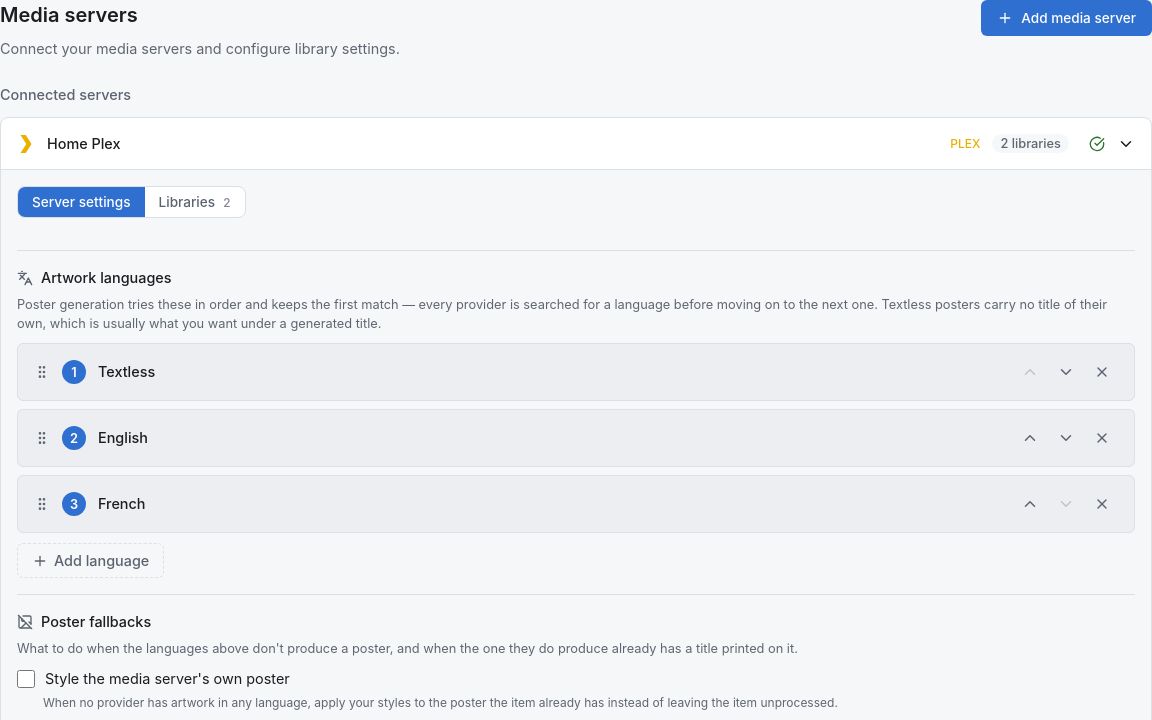
MediaServersSettings deletion › closes the confirmation and refreshes once the delete lands
Click the button "Server settings" at (81, 202), box x1=18 y1=187 x2=144 y2=217
(page scrolled)
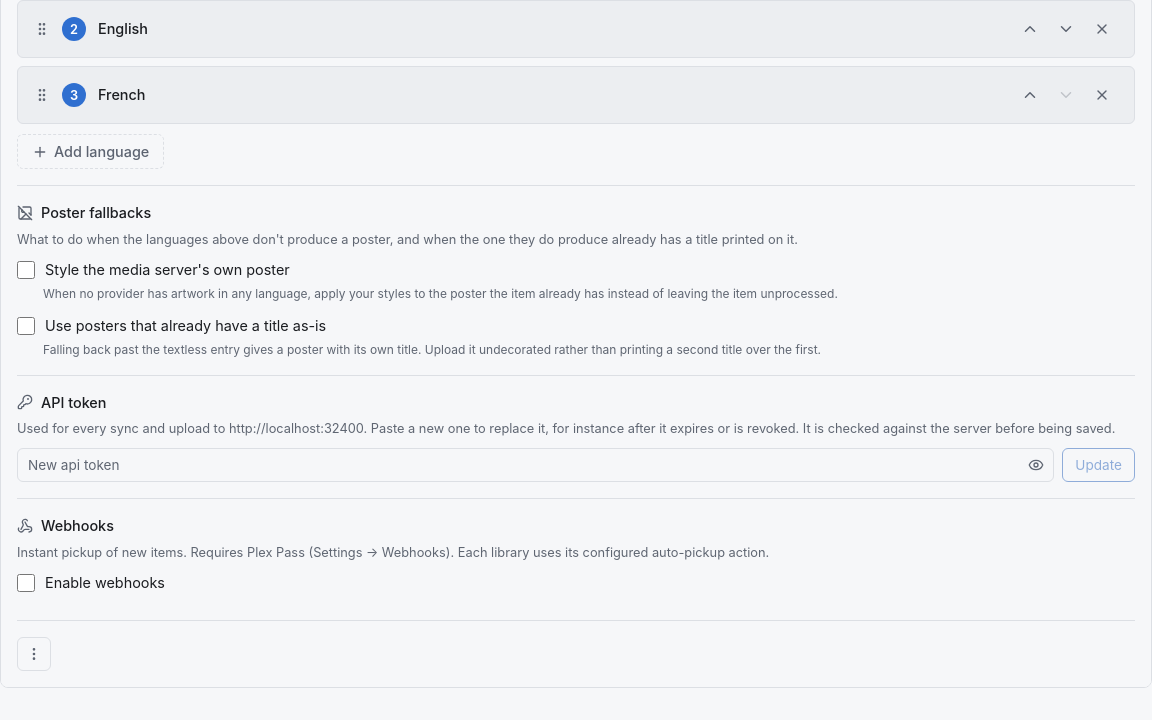
Click the button named "More actions" at (34, 654), box x1=17 y1=637 x2=51 y2=671
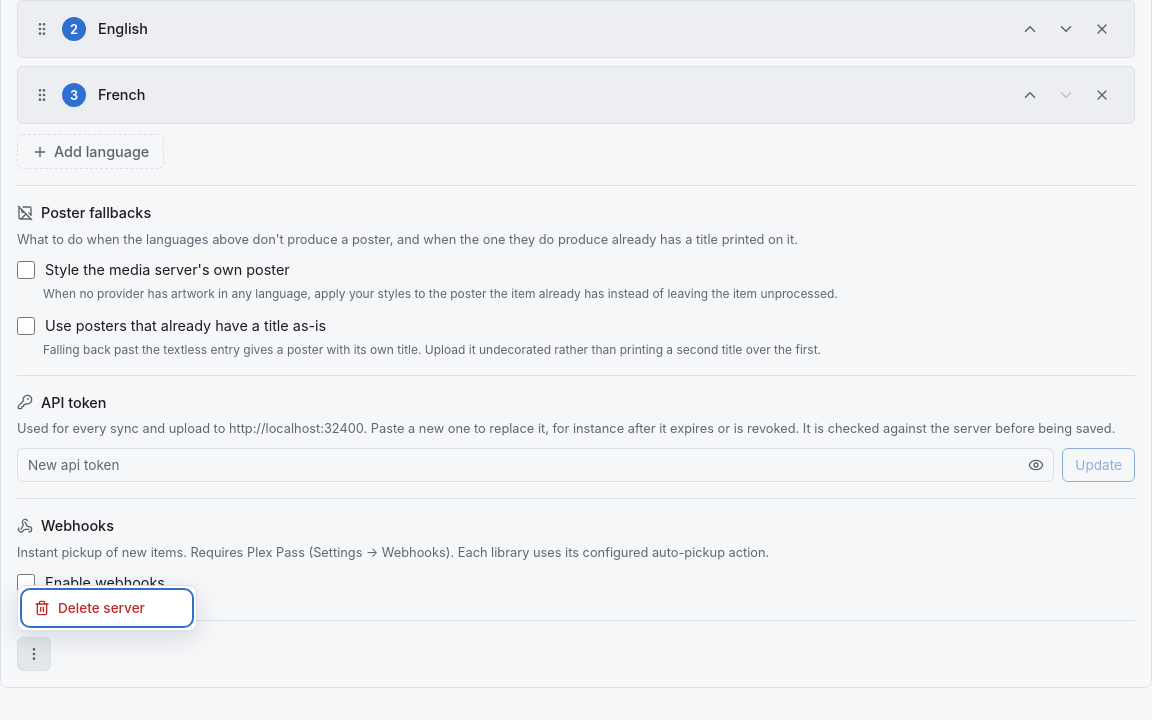
Click the menu item "Delete server" at (107, 608), box x1=24 y1=592 x2=190 y2=624
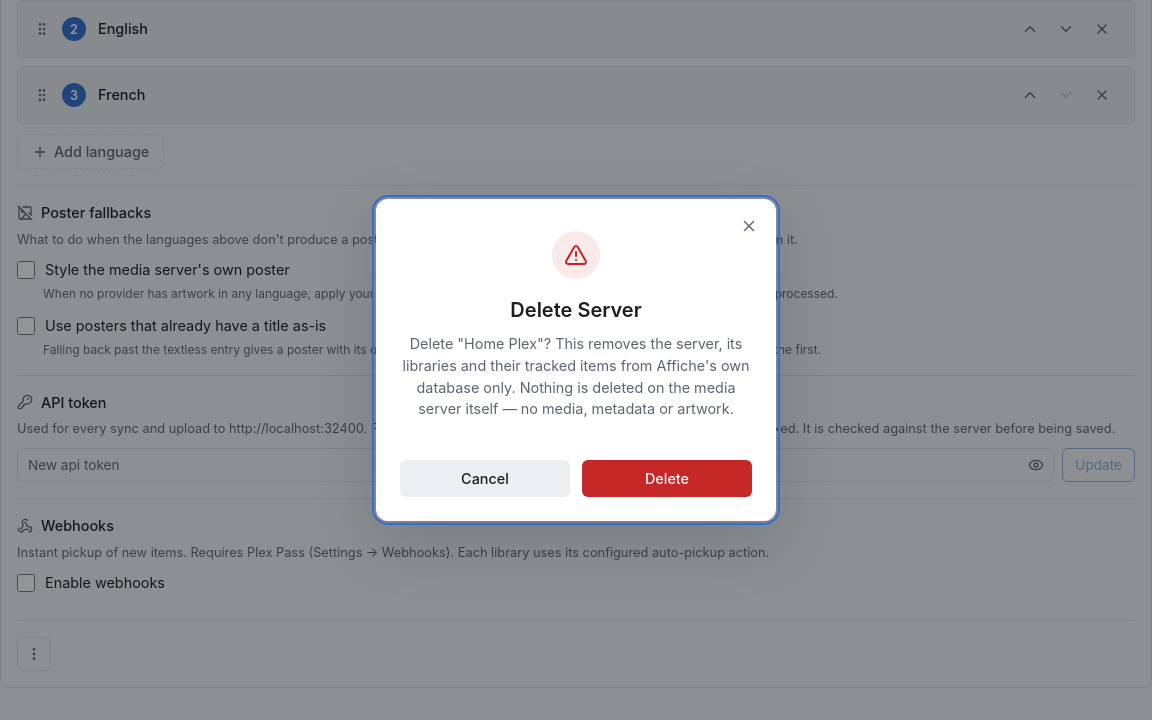
Click the button "Delete" at (667, 478), box x1=582 y1=460 x2=752 y2=497
(page scrolled)
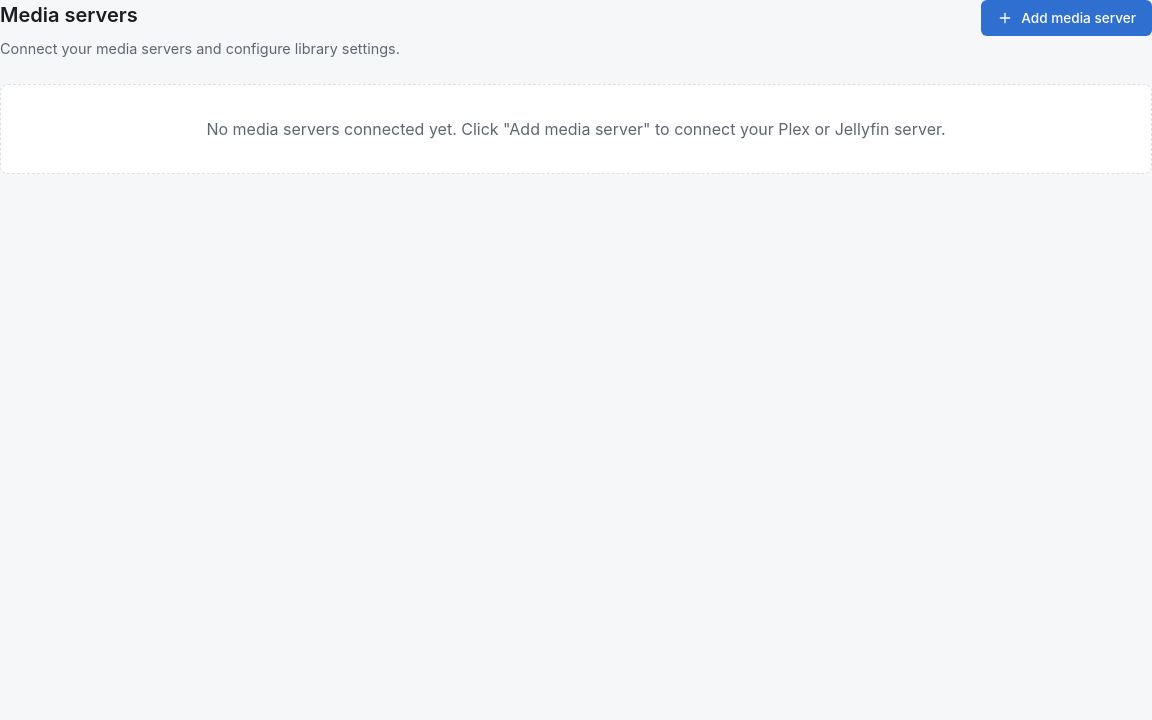
Result: the text "No media servers connected yet" is shown at x1=206 y1=119 x2=946 y2=139
